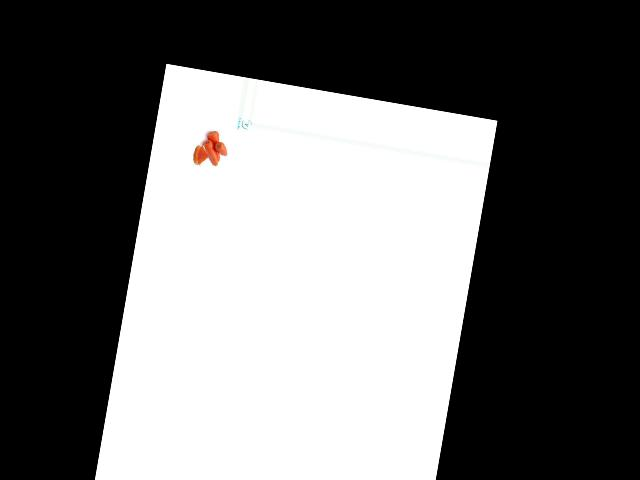carrot: (200, 139, 223, 167)
